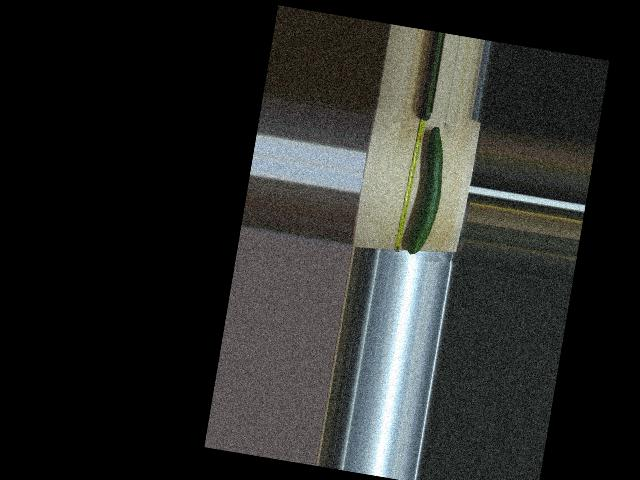cucumber: (405, 124, 451, 257)
